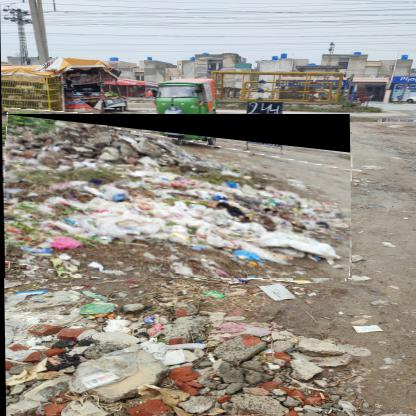Garbage: (2, 115, 353, 280)
